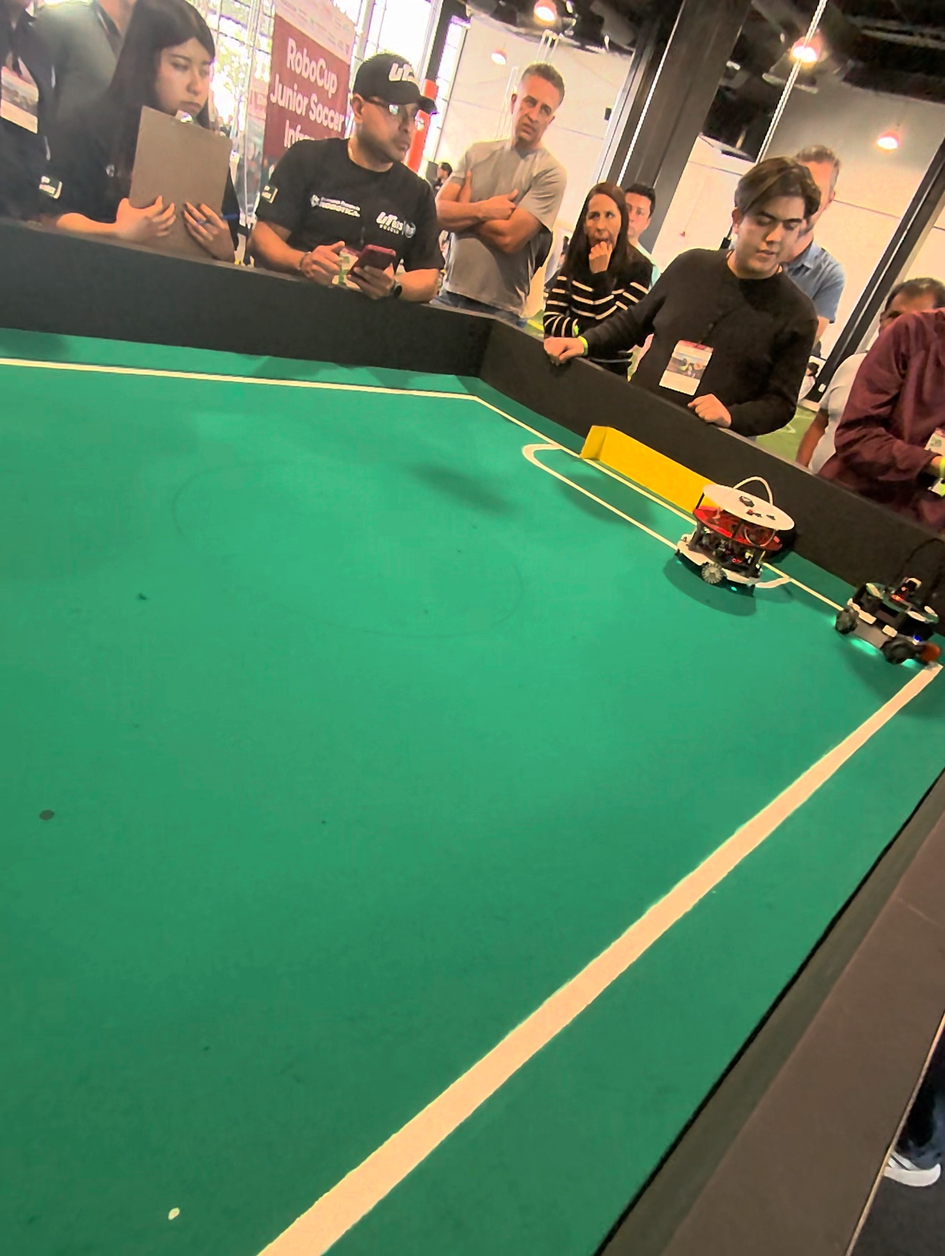Robot: (832, 526, 945, 680), (672, 470, 803, 597)
